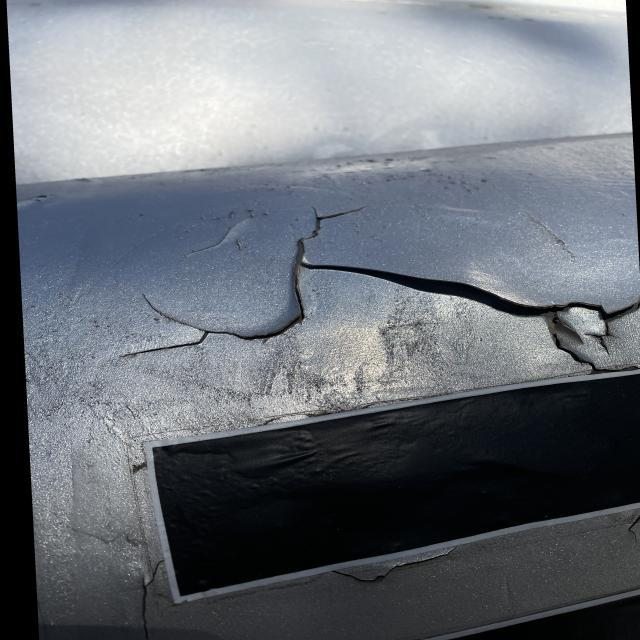crack: (296, 266, 640, 347), (129, 289, 282, 367), (282, 207, 364, 263)
